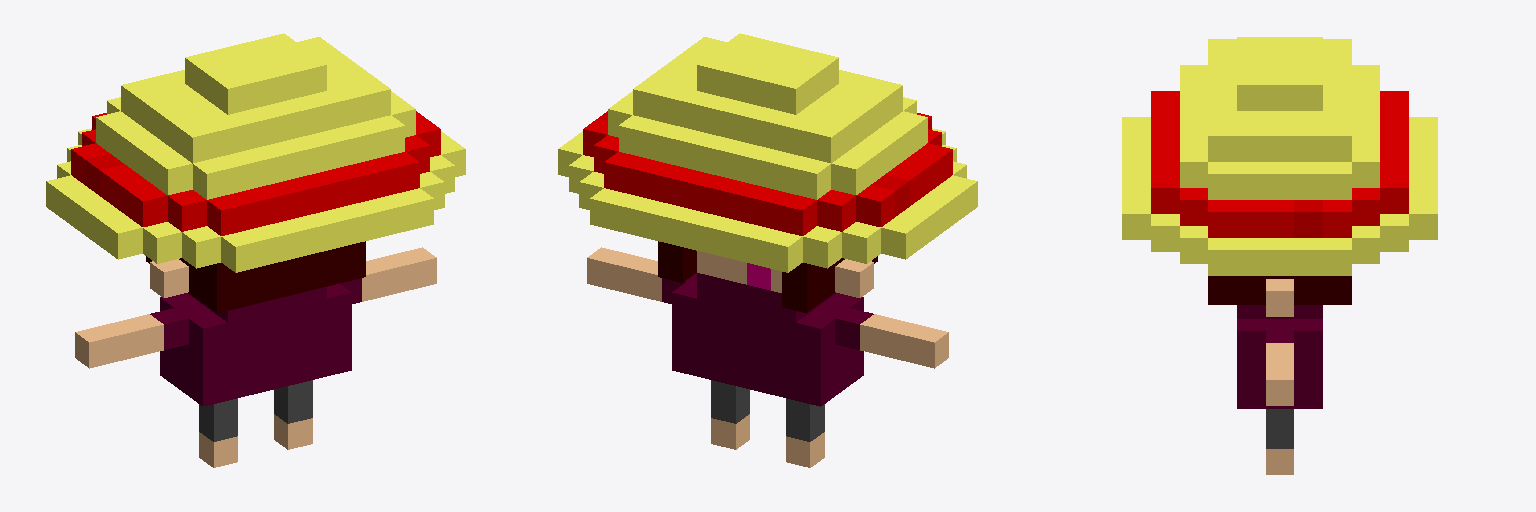
3 renders of one model, left to right at view 1: azimuth 30°, elevation 25°; view 2: azimuth 150°, elevation 25°; view 3: azimuth 270°, elevation 25°, orthographic.
Parts seen in each view (by area): view 1: Model; view 2: Model; view 3: Model.
Part boxes in pixels (left/top/right/bottom): Model: left=46, top=33, right=465, bottom=467; Model: left=558, top=33, right=977, bottom=467; Model: left=1122, top=37, right=1437, bottom=474.
Size of the model in its own units: 29.87 by 32 by 23.47.
Materials: 1 (1 with a texture image).